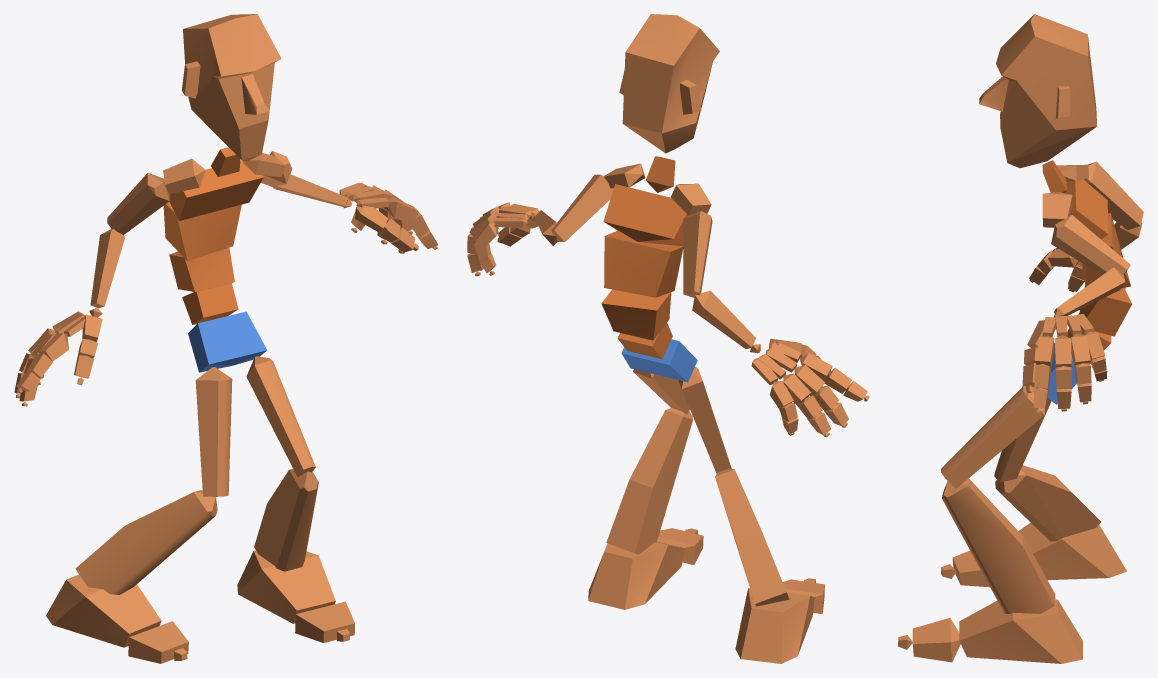
The picture shows the model from 3 angles, left to right: view 1: azimuth 30°, elevation 25°; view 2: azimuth 150°, elevation 25°; view 3: azimuth 270°, elevation 25°; orthographic projection. The views are drawn at different scales.
Parts seen in each view (by area): view 1: BOPED_Head, BOPED_R_leg, BOPED_R_foot, BOPED_L_leg, BOPED_R_foot01, BOPED_R_legup, Bone01, BOPED_L_legup, Bone04, Bone05, Bone03, BOPED_R_arm_upper (+8 smaller); view 2: BOPED_Head, BOPED_L_leg, BOPED_R_foot01, BOPED_R_foot, BOPED_R_leg, Bone04, Bone05, Bone03, BOPED_R_legup, BOPED_R_arm_upper, BOPED_L_arm_upper, Bone01 (+8 smaller); view 3: BOPED_Head, BOPED_L_leg, BOPED_R_foot01, BOPED_R_leg, BOPED_R_foot, BOPED_L_legup, BOPED_L_arm_upper, BOPED_R_arm_upper, BOPED_R_foot_toe04, Bone05, Bone03, BOPED_R_legup (+14 smaller).
Boxes of the visible parts, bbox=[...] form: BOPED_Head: bbox=[182, 14, 281, 161]; BOPED_R_leg: bbox=[75, 490, 217, 594]; BOPED_R_foot: bbox=[46, 574, 161, 647]; BOPED_L_leg: bbox=[254, 468, 318, 571]; BOPED_R_foot01: bbox=[237, 550, 335, 623]; BOPED_R_legup: bbox=[195, 367, 232, 496]; Bone01: bbox=[188, 311, 266, 372]; BOPED_L_legup: bbox=[246, 356, 315, 476]; Bone04: bbox=[163, 202, 241, 260]; Bone05: bbox=[169, 160, 263, 220]; Bone03: bbox=[169, 247, 234, 291]; BOPED_R_arm_upper: bbox=[107, 173, 169, 235]; BOPED_Head: bbox=[619, 14, 719, 153]; BOPED_L_leg: bbox=[606, 408, 692, 554]; BOPED_R_foot01: bbox=[588, 541, 684, 609]; BOPED_R_foot: bbox=[735, 588, 814, 663]; BOPED_R_leg: bbox=[715, 468, 789, 606]; Bone04: bbox=[604, 230, 683, 297]; Bone05: bbox=[603, 184, 689, 246]; Bone03: bbox=[601, 289, 671, 340]; BOPED_R_legup: bbox=[678, 366, 731, 473]; BOPED_R_arm_upper: bbox=[683, 211, 712, 297]; BOPED_L_arm_upper: bbox=[551, 174, 613, 241]; Bone01: bbox=[621, 339, 697, 382]; BOPED_Head: bbox=[979, 14, 1096, 168]; BOPED_L_leg: bbox=[942, 478, 1055, 613]; BOPED_R_foot01: bbox=[959, 599, 1082, 663]; BOPED_R_leg: bbox=[995, 465, 1100, 541]; BOPED_R_foot: bbox=[1018, 522, 1126, 580]; BOPED_L_legup: bbox=[941, 386, 1045, 488]; BOPED_L_arm_upper: bbox=[1051, 215, 1130, 274]; BOPED_R_arm_upper: bbox=[1084, 161, 1143, 229]; BOPED_R_foot_toe04: bbox=[912, 618, 960, 662]; Bone05: bbox=[1065, 179, 1108, 239]; Bone03: bbox=[1080, 285, 1132, 336]; BOPED_R_legup: bbox=[994, 385, 1051, 482].
Size of the model in its own units: 130 by 178 by 65.59.
